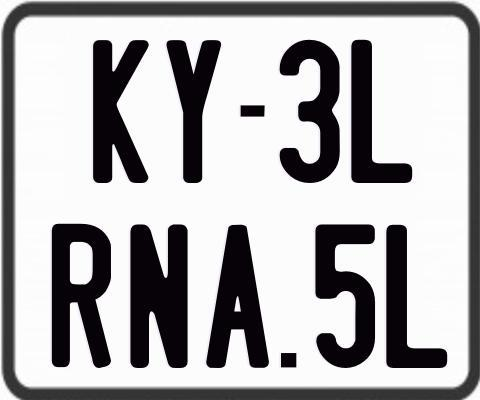3: (280, 40, 345, 187)
5: (312, 224, 375, 372)
A: (205, 223, 268, 369)
K: (93, 38, 154, 185)
L: (349, 39, 411, 187), (383, 224, 444, 370)
N: (130, 221, 188, 368)
R: (49, 222, 113, 371)
Y: (164, 37, 223, 180)
